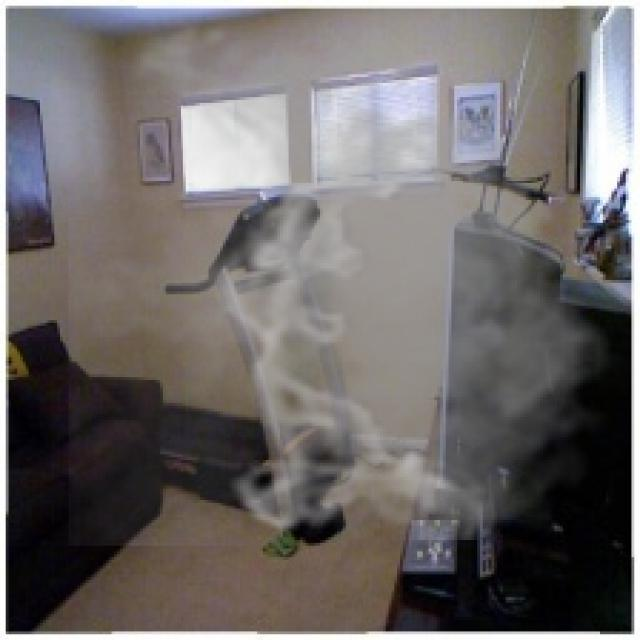Smoke: (69, 6, 632, 546)
